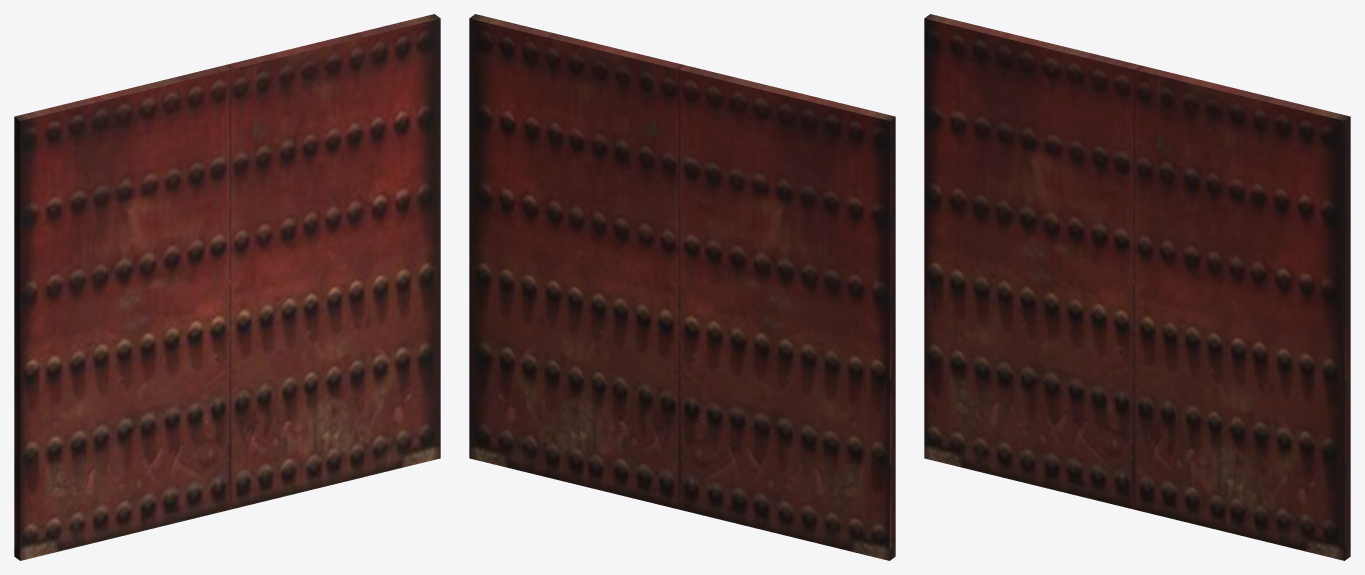
File: sn03Door.FBX
The picture shows the model from 3 angles, left to right: view 1: azimuth 30°, elevation 25°; view 2: azimuth 150°, elevation 25°; view 3: azimuth 330°, elevation 25°; orthographic projection.
Visible parts, largest first — view 1: Box02, Object01; view 2: Box02, Object01; view 3: Object01, Box02.
Part boxes in pixels (x1,y1,x2,y2): Box02: (14,65,230,560); Object01: (225,14,440,509); Box02: (679,65,895,560); Object01: (469,14,684,509); Object01: (1134,65,1350,560); Box02: (924,14,1139,509).
Bounding box in the file's own units: 200 × 200 × 5.09.
Materials: 1 (1 with a texture image).
